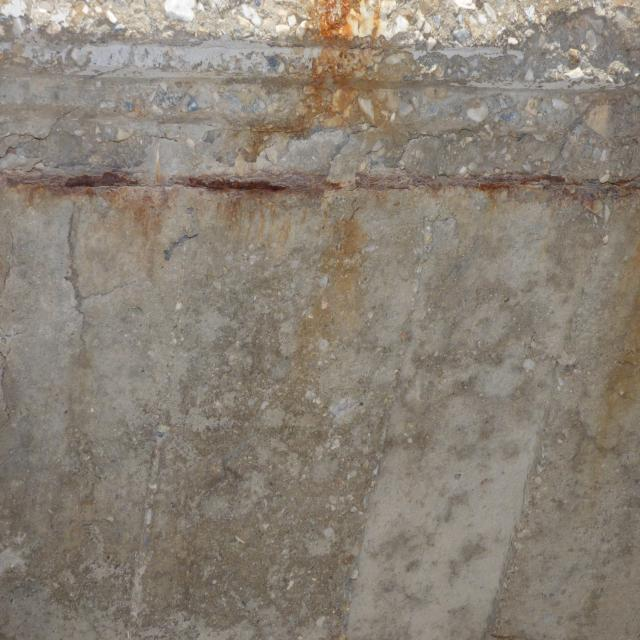corrosion: (0, 168, 640, 253), (235, 0, 411, 162), (296, 215, 379, 379), (594, 251, 640, 465)
